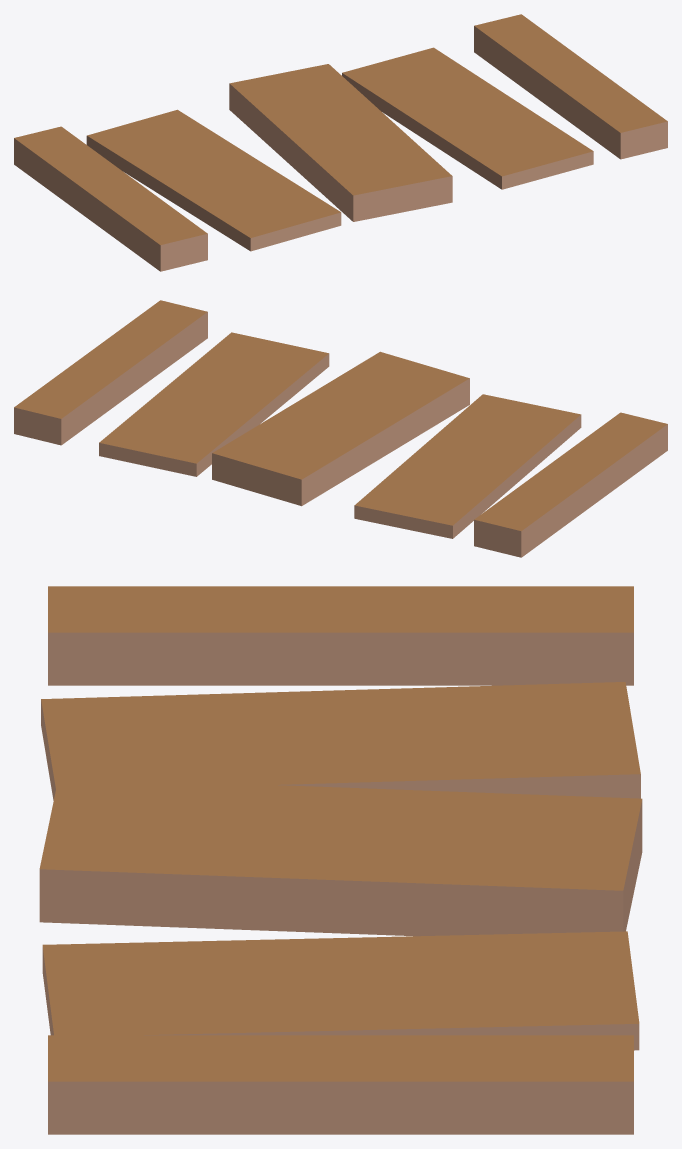
The model's file is path_wood.glb.
3 renders of one model, top to bottom at view 1: azimuth 30°, elevation 25°; view 2: azimuth 150°, elevation 25°; view 3: azimuth 270°, elevation 25°, orthographic. The views are drawn at different scales.
Parts seen in each view (by area): view 1: path_wood; view 2: path_wood; view 3: path_wood.
Part boxes in pixels (bbox=[...]): path_wood: bbox=[14, 14, 667, 271]; path_wood: bbox=[14, 300, 667, 557]; path_wood: bbox=[39, 586, 642, 1134].
Bounding box in the file's own units: 1 × 0.05 × 0.5144.
